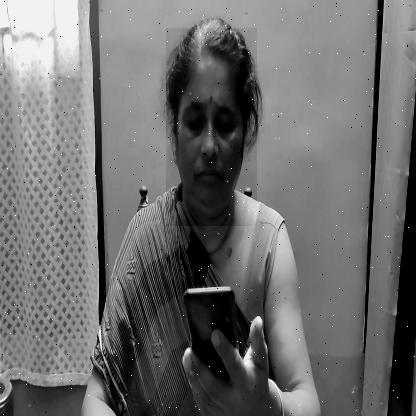Distracted: (166, 28, 257, 226)
